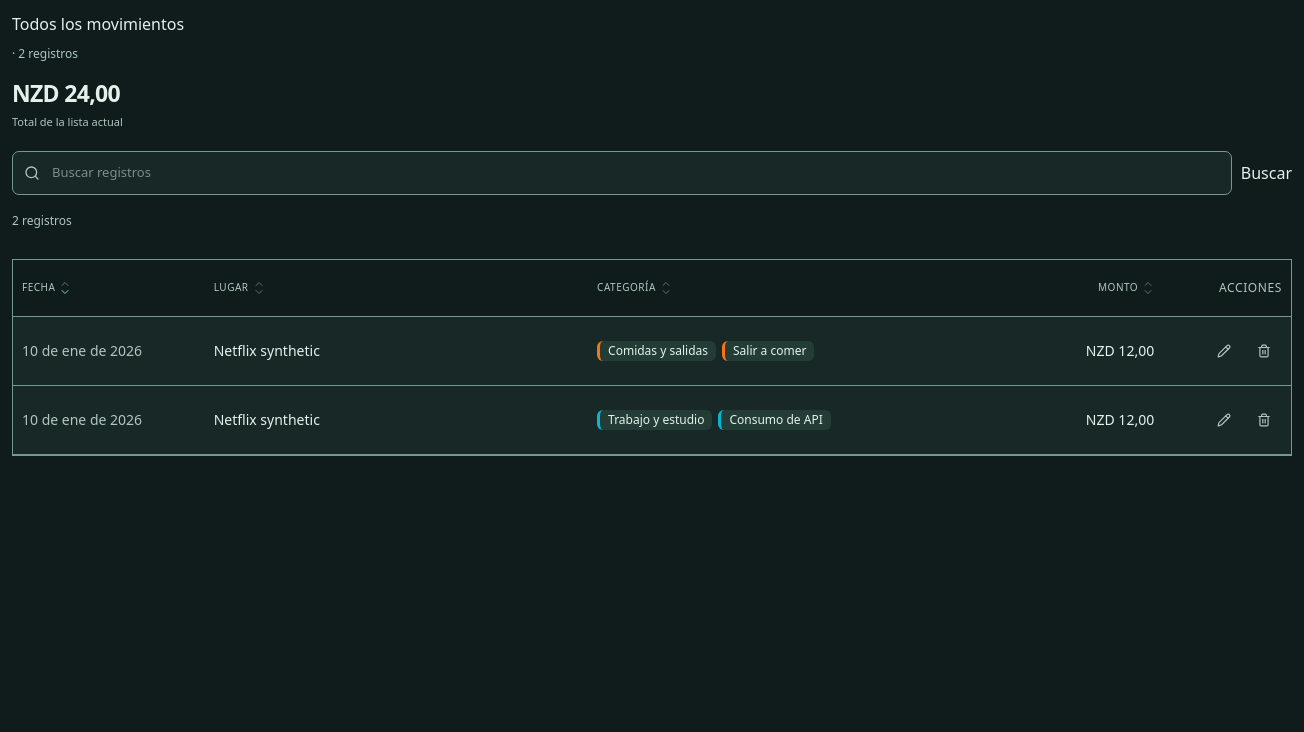
Test: offers one stable current option per purpose and no equivalent historical options in es
Click the button named "Editar Netflix synthetic" in the row of "Comidas y salidas" at [1224, 351], box [1206,329,1242,373]
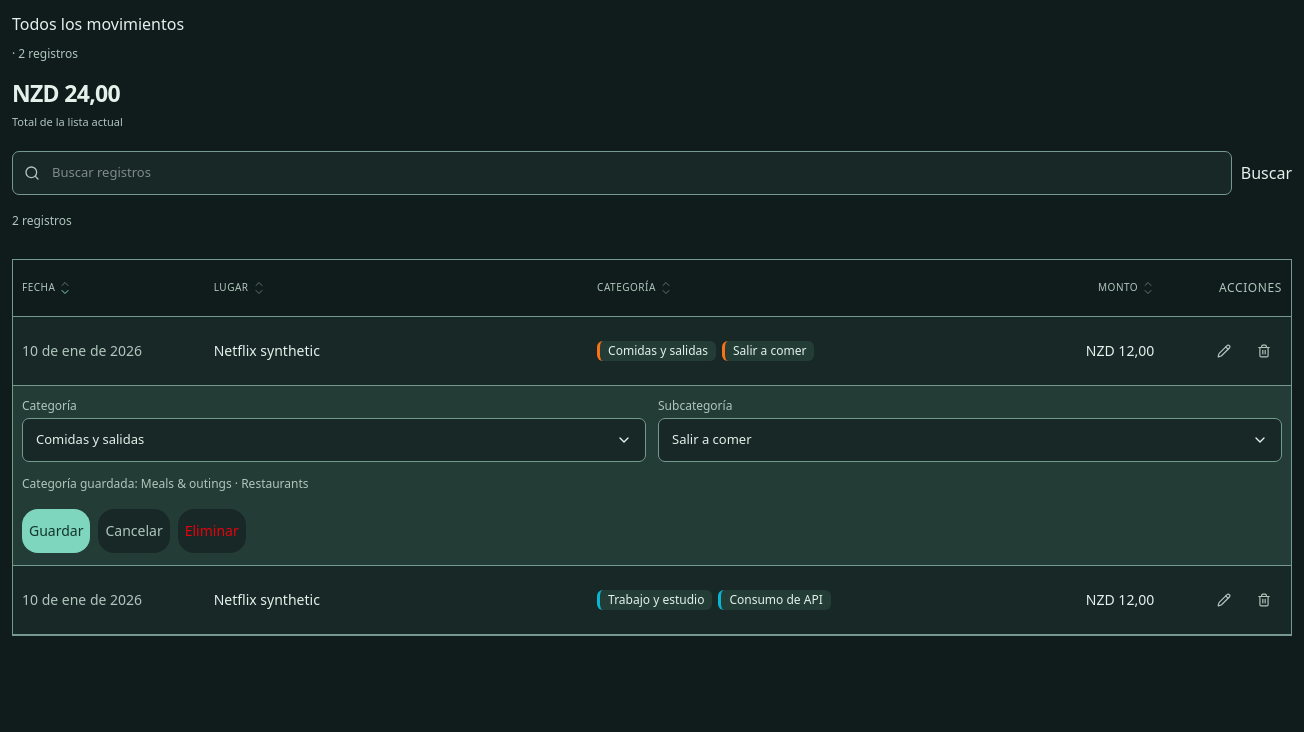
Now the dropdown labelled "Categoría" shows "Comidas y salidas", box [22,418,646,462]
Now the dropdown labelled "Subcategoría" shows "Salir a comer", box [658,418,1282,462]
Now the text "Categoría guardada" is shown, box [22,475,134,492]
